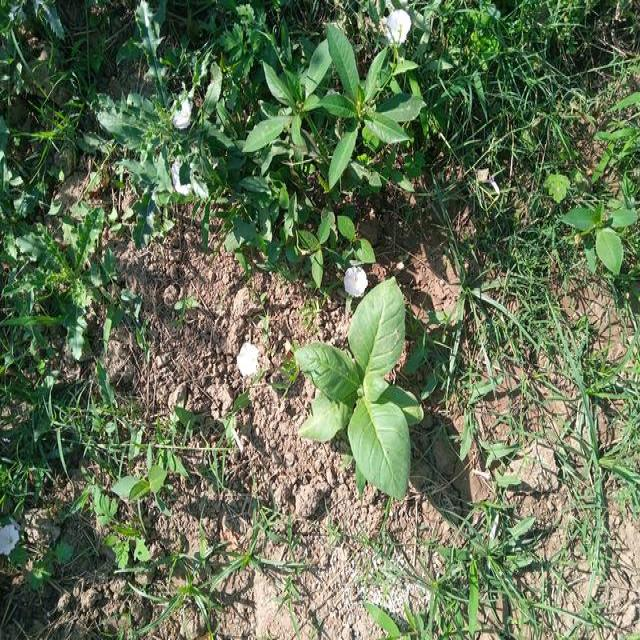crop: (305, 284, 426, 494)
